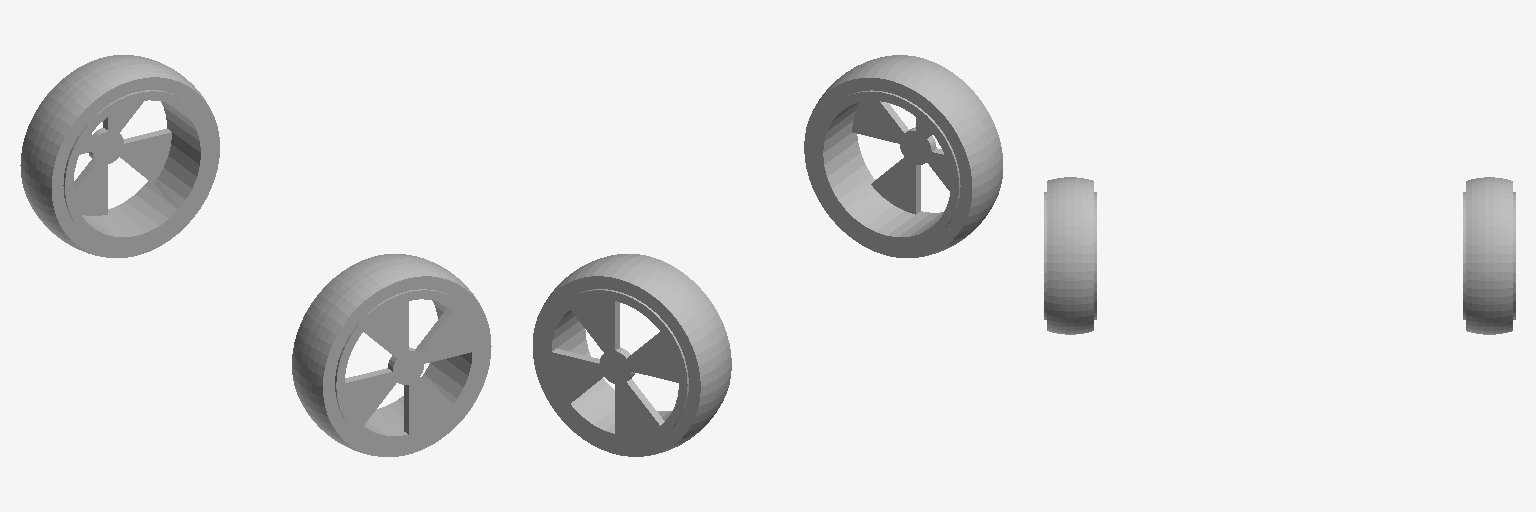
robot.urdf — mm:
<?xml version="1.0" encoding="utf-8"?>
<!-- This URDF was automatically created by SolidWorks to URDF Exporter! Originally created by [author] ([email redacted]) 
     Commit Version: 1.6.0-4-g7f85cfe  Build Version: 1.6.7995.38578
     For more information, please see http://wiki.ros.org/sw_urdf_exporter -->
<robot
  name="mm">
  <link
    name="base_link">
    <inertial>
      <origin
        xyz="0 0 0"
        rpy="0 0 0" />
      <mass
        value="55.9" />
      <inertia
        ixx="0.611701132100641"
        ixy="6.84876194160263E-07"
        ixz="-0.000344054161247601"
        iyy="1.25166081836814"
        iyz="-4.19098316162667E-08"
        izz="1.76153613752974" />
    </inertial>
    <visual>
      <origin
        xyz="0 0 0"
        rpy="0 0 0" />
      <geometry>
        <mesh
          filename="package://mm/meshes/tt_base_link.STL" />
      </geometry>
      <material
        name="">
        <color
          rgba="0.792156862745098 0.819607843137255 0.933333333333333 1" />
      </material>
    </visual>
    <collision>
      <origin
        xyz="0 0 0"
        rpy="0 0 0" />
      <geometry>
        <mesh
          filename="package://mm/meshes/tt_base_link.STL" />
      </geometry>
    </collision>
  </link>
  <link
    name="link_right_wheel">
    <inertial>
      <origin
        xyz="-0.0041818 -1.3878E-17 6.9389E-18"
        rpy="0 0 0" />
      <mass
        value="1.9718" />
      <inertia
        ixx="0.007775"
        ixy="-6.9287E-19"
        ixz="-1.4895E-17"
        iyy="0.0044318"
        iyz="5.8396E-19"
        izz="0.0044318" />
    </inertial>
    <visual>
      <origin
        xyz="0 0 0"
        rpy="0 0 0" />
      <geometry>
        <mesh
          filename="package://mm/meshes/tt_link_right_wheel.STL" />
      </geometry>
      <material
        name="">
        <color
          rgba="0.75294 0.75294 0.75294 1" />
      </material>
    </visual>
    <collision>
      <origin
        xyz="0 0 0"
        rpy="0 0 0" />
      <geometry>
        <mesh
          filename="package://mm/meshes/tt_link_right_wheel.STL" />
      </geometry>
    </collision>
  </link>
  <joint
    name="right_joint"
    type="fixed">
    <origin
      xyz="-0.00028002 -0.22127 0.057999"
      rpy="1.5708 0 1.5708" />
    <parent
      link="base_link" />
    <child
      link="link_right_wheel" />
    <axis
      xyz="0 0 0" />
  </joint>
  <link
    name="link_left_wheel">
    <inertial>
      <origin
        xyz="-0.0041818 6.9389E-18 2.941E-17"
        rpy="0 0 0" />
      <mass
        value="1.9718" />
      <inertia
        ixx="0.007775"
        ixy="7.4266E-19"
        ixz="-8.9406E-18"
        iyy="0.0044318"
        iyz="5.3381E-19"
        izz="0.0044318" />
    </inertial>
    <visual>
      <origin
        xyz="0 0 0"
        rpy="0 0 0" />
      <geometry>
        <mesh
          filename="package://mm/meshes/tt_link_left_wheel.STL" />
      </geometry>
      <material
        name="">
        <color
          rgba="0.75294 0.75294 0.75294 1" />
      </material>
    </visual>
    <collision>
      <origin
        xyz="0 0 0"
        rpy="0 0 0" />
      <geometry>
        <mesh
          filename="package://mm/meshes/tt_link_left_wheel.STL" />
      </geometry>
    </collision>
  </link>
  <joint
    name="left_joint"
    type="fixed">
    <origin
      xyz="0 0.221 0.058"
      rpy="-1.5708 0 -1.5708" />
    <parent
      link="base_link" />
    <child
      link="link_left_wheel" />
    <axis
      xyz="0 0 0" />
  </joint>
</robot>

--- Render facts (derived) ---
The picture shows the robot from 3 angles, left to right: view 1: azimuth 30°, elevation 25°; view 2: azimuth 150°, elevation 25°; view 3: azimuth 270°, elevation 25°; orthographic projection.
Robot: mm — 3 links, 2 joints (2 fixed); root link base_link; default pose: every joint at zero.
Visible links, largest first — view 1: link_right_wheel, link_left_wheel; view 2: link_right_wheel, link_left_wheel; view 3: link_right_wheel, link_left_wheel.
Boxes of the visible links, x1,y1,x2,y2 form: link_right_wheel: (292, 254, 491, 456); link_left_wheel: (20, 55, 219, 257); link_right_wheel: (804, 55, 1002, 257); link_left_wheel: (533, 254, 731, 456); link_right_wheel: (1044, 177, 1096, 334); link_left_wheel: (1463, 177, 1515, 334).
Bounding box of the posed robot: 0.1663 × 0.4973 × 0.1657 m (x, y, z).
2 mesh visuals loaded from 3 distinct referenced files (2 binary STL); not drawn: 1 (reference not matched to a file when rendering).